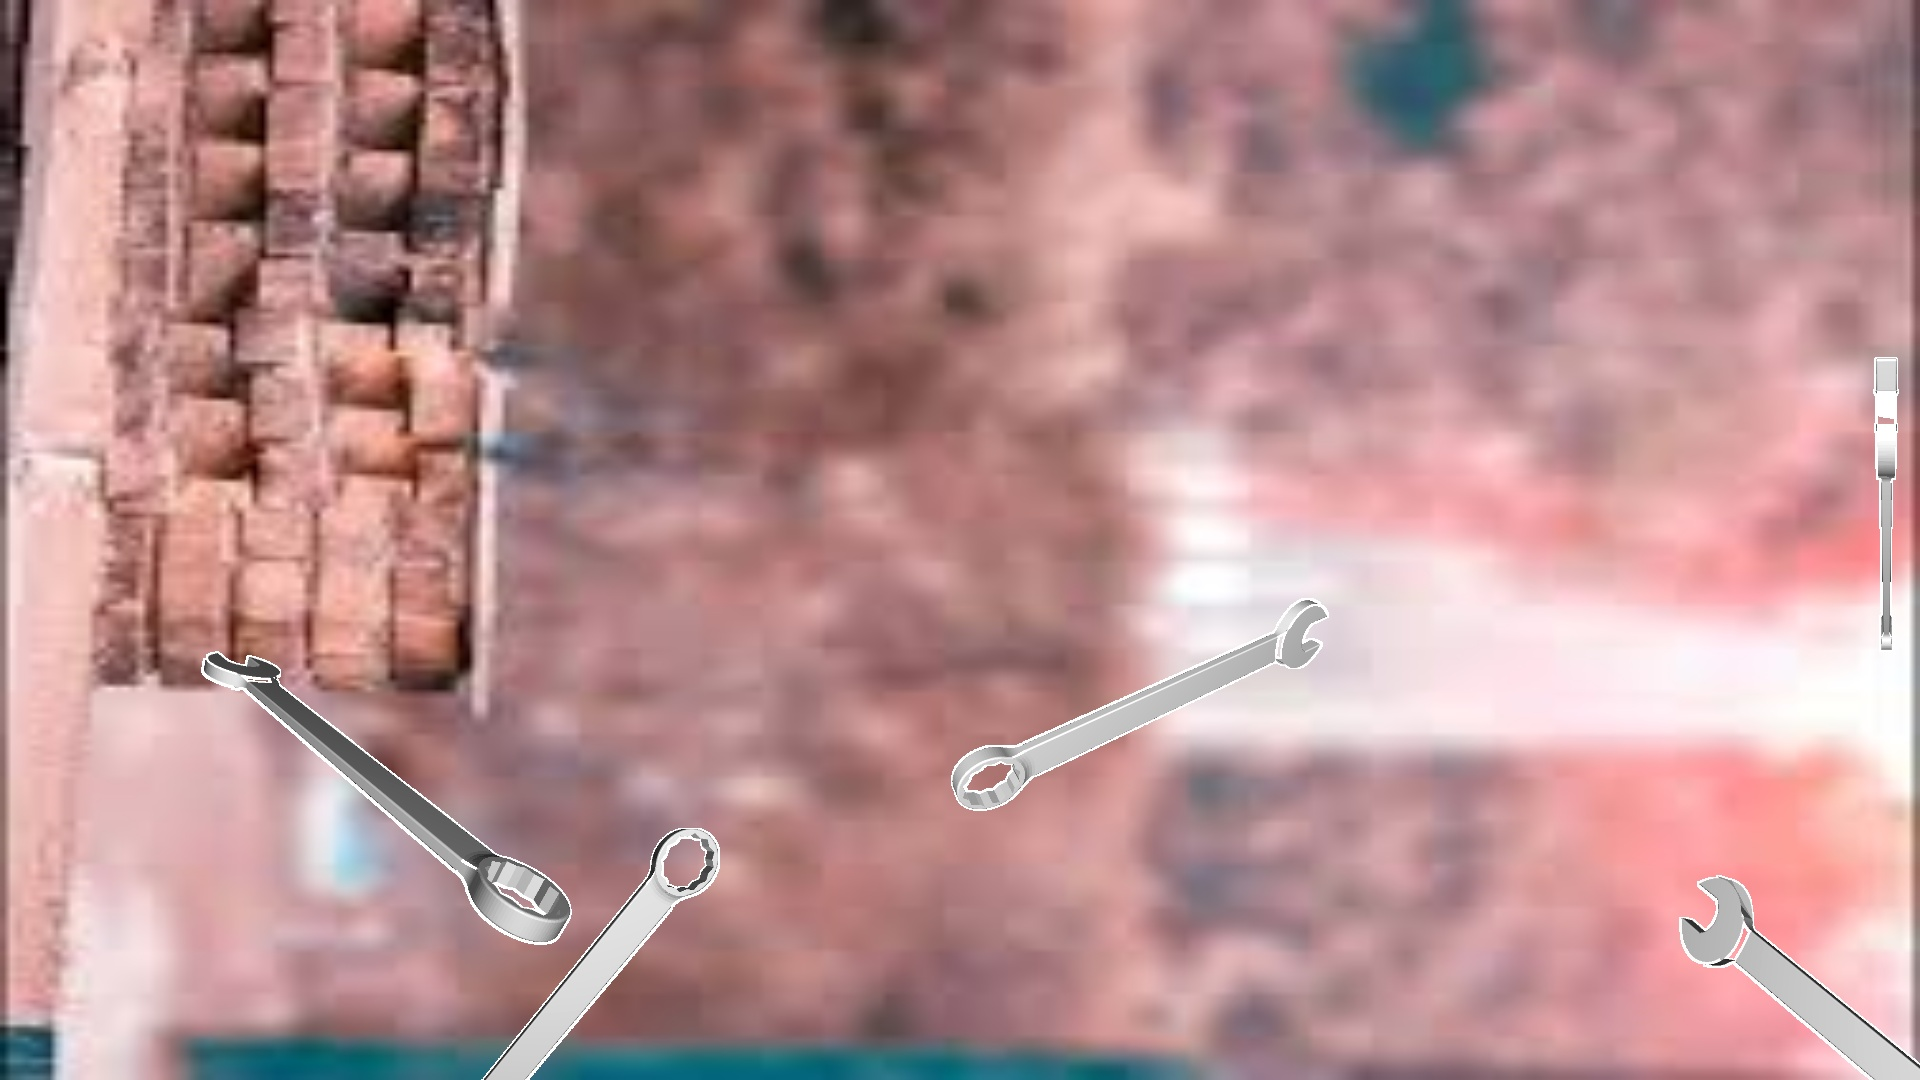Mixed Key: (200, 651, 571, 944), (951, 597, 1328, 810), (481, 828, 719, 1079), (1679, 876, 1919, 1079), (1873, 357, 1898, 651)
